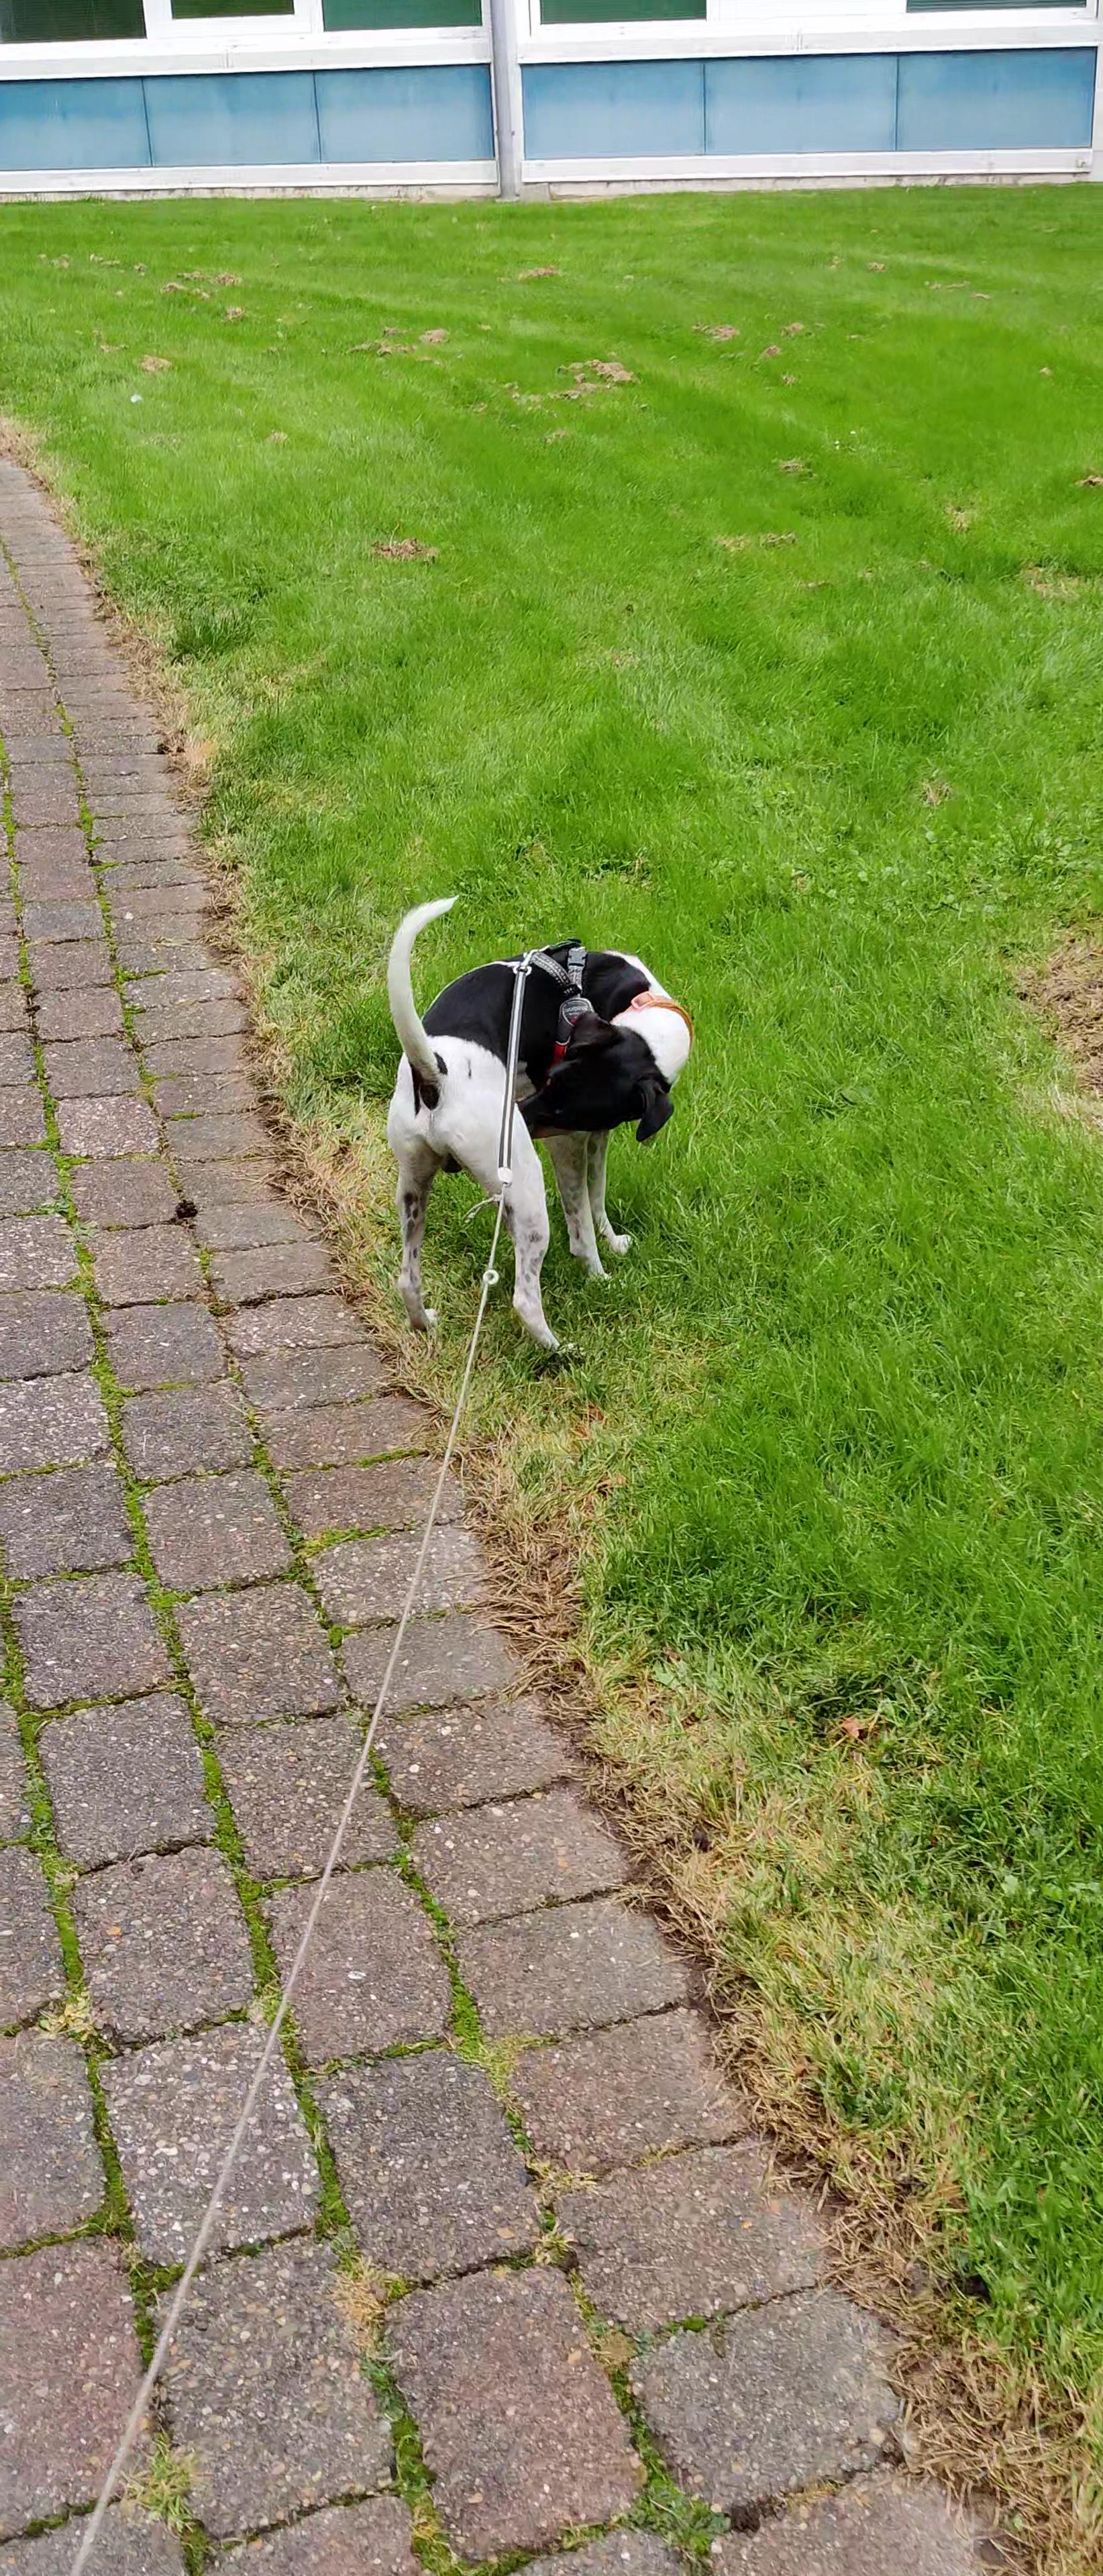Dog: (376, 892, 699, 1364)
